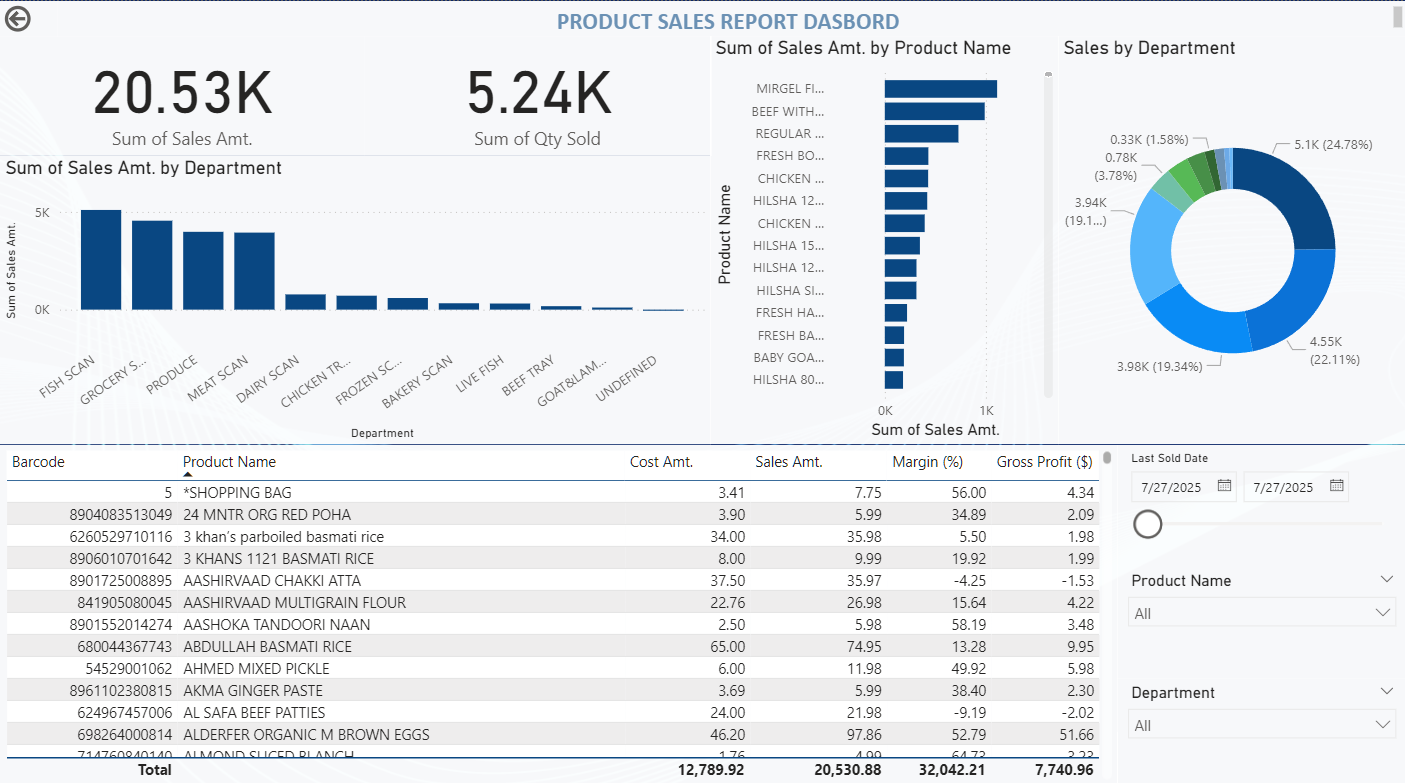

The dashboard page shown, as its layout file describes it:
{"tool":"powerbi","page":{"name":"Page 1","canvas":[1280,720],"ordinal":0},"visuals":[{"type":"card","fields":{"Values":["Sum(Product Wise Sales.Sales Amt.)"]},"box":[0,32.2,331.1,108.9],"z":0},{"type":"barChart","fields":{"Y":["Sum(Product Wise Sales.Sales Amt.)"],"Category":["Product Wise Sales.Product Name"]},"box":[645.6,32.2,316.7,371.1],"z":1000},{"type":"lineClusteredColumnComboChart","fields":{"Category":["Product Wise Sales.Department"],"Y":["Sum(Product Wise Sales.Sales Amt.)"]},"box":[0,141.1,645.6,262.2],"z":2000},{"type":"donutChart","fields":{"Category":["Product Wise Sales.Department"],"Y":["Sum(Product Wise Sales.Sales Amt.)"]},"box":[962.2,32.2,317.8,371.1],"z":3000},{"type":"tableEx","fields":{"Values":["Product Wise Sales.Barcode","Product Wise Sales.Product Name","Sum(Product Wise Sales.Cost Amt.)","Sum(Product Wise Sales.Sales Amt.)","Sum(Product Wise Sales.Margin (%))","Sum(Product Wise Sales.Gross Profit ($))"]},"box":[0,403.3,1015.6,308.9],"z":4000},{"type":"slicer","fields":{"Values":["Product Wise Sales.Department"]},"box":[1015.6,615.6,264.4,96.7],"z":5000},{"type":"card","fields":{"Values":["Sum(Product Wise Sales.Qty Sold)"]},"box":[331.1,32.2,315.6,108.9],"z":6000},{"type":"actionButton","box":[0,0,52.2,32.2],"z":7000},{"type":"slicer","fields":{"Values":["Product Wise Sales.Product Name"]},"box":[1015.6,513.3,264.4,102.2],"z":8000},{"type":"slicer","fields":{"Values":["Product Wise Sales.Last Sold Date"]},"box":[1015.6,403.3,264.4,110],"z":9000},{"type":"textbox","box":[52.2,0,1227.8,32.2],"z":10000}]}

Visuals, with their boxes in screenshot pixels (x1, y1, x2, y2), scaled from the page's 1280x720 canvas onto the 1405x783 screenshot:
card - Sum(Product Wise Sales.Sales Amt.): pyautogui.locateOnScreen(0, 35, 363, 153)
barChart - Sum(Product Wise Sales.Sales Amt.) x Product Wise Sales.Product Name: pyautogui.locateOnScreen(709, 35, 1056, 439)
lineClusteredColumnComboChart - Product Wise Sales.Department x Sum(Product Wise Sales.Sales Amt.): pyautogui.locateOnScreen(0, 153, 709, 439)
donutChart - Product Wise Sales.Department x Sum(Product Wise Sales.Sales Amt.): pyautogui.locateOnScreen(1056, 35, 1404, 439)
tableEx - Product Wise Sales.Barcode x Product Wise Sales.Product Name: pyautogui.locateOnScreen(0, 439, 1115, 775)
slicer - Product Wise Sales.Department: pyautogui.locateOnScreen(1115, 669, 1404, 775)
card - Sum(Product Wise Sales.Qty Sold): pyautogui.locateOnScreen(363, 35, 710, 153)
actionButton: pyautogui.locateOnScreen(0, 0, 57, 35)
slicer - Product Wise Sales.Product Name: pyautogui.locateOnScreen(1115, 558, 1404, 669)
slicer - Product Wise Sales.Last Sold Date: pyautogui.locateOnScreen(1115, 439, 1404, 558)
textbox: pyautogui.locateOnScreen(57, 0, 1404, 35)
